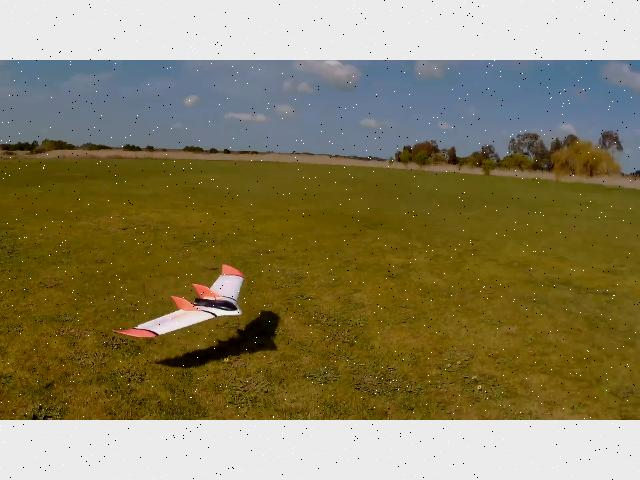Anti-Drone: (111, 265, 243, 339)
